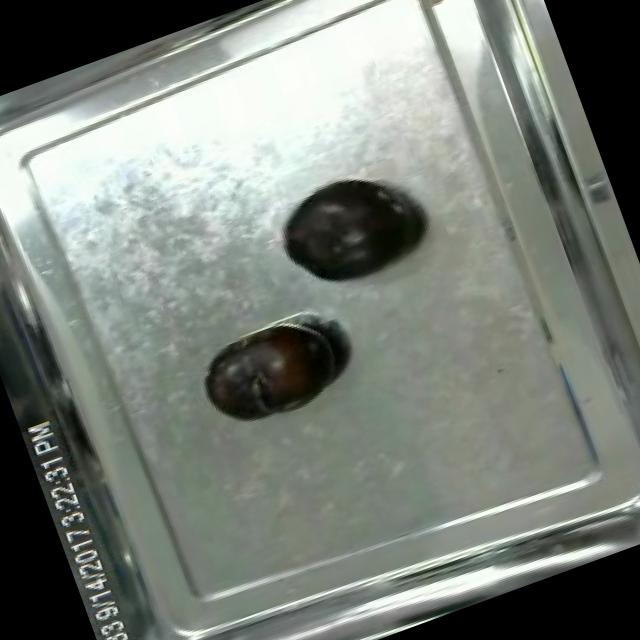Fruit: (264, 158, 426, 308), (190, 313, 352, 442)
